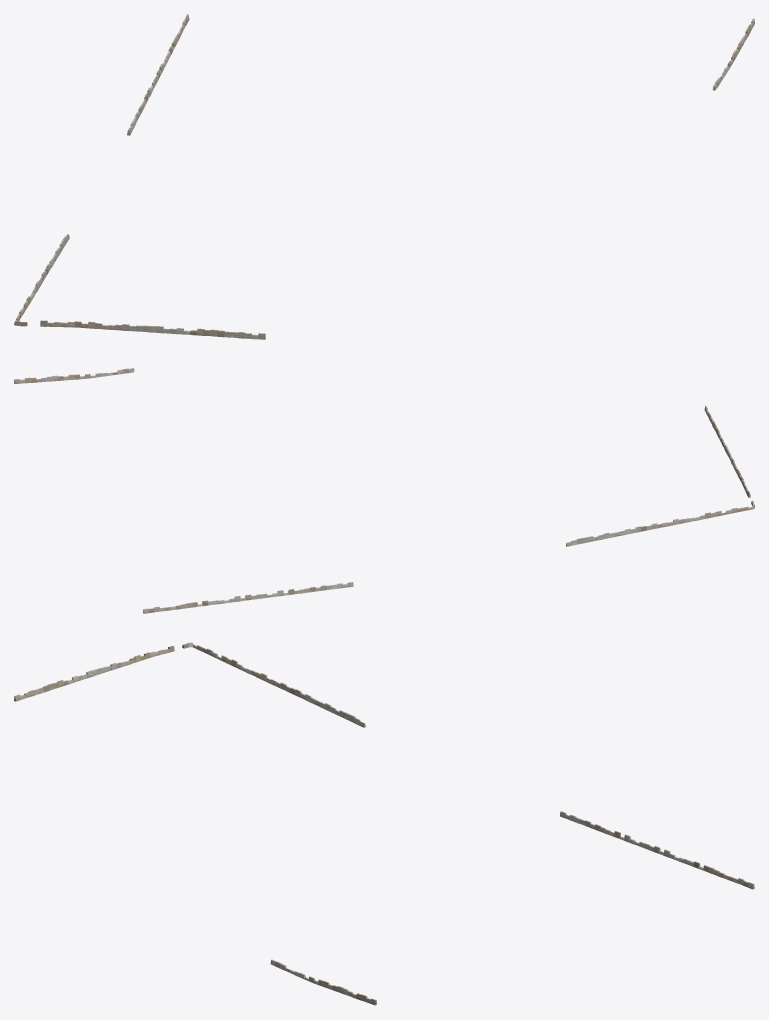
File: farm_-7_0_mid.glb
The picture shows the model from 3 angles, top to bottom: view 1: azimuth 30°, elevation 25°; view 2: azimuth 150°, elevation 25°; view 3: azimuth 270°, elevation 25°; orthographic projection. The views are drawn at different scales.
Parts seen in each view (by area): view 1: geometry_0; view 2: geometry_0; view 3: geometry_0.
Boxes of the visible parts, <box> form: geometry_0: <box>14,14,754,339</box>; geometry_0: <box>14,368,754,613</box>; geometry_0: <box>14,642,754,1005</box>.
Size of the model in its own units: 216 by 14.9 by 176.
